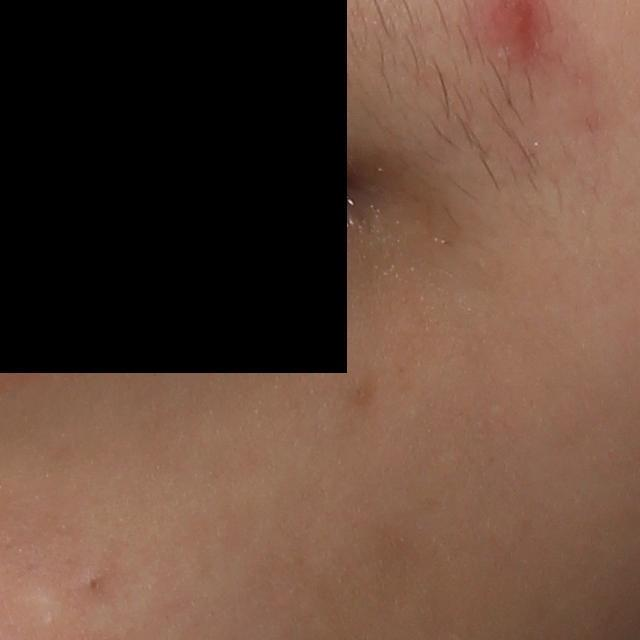comedo: (82, 570, 106, 592)
hypertrophic_scar: (22, 589, 67, 639)
